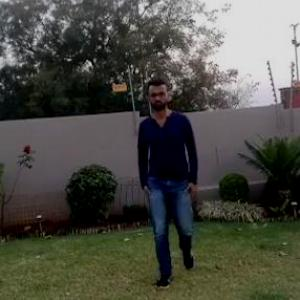follow: (141, 80, 195, 279)
